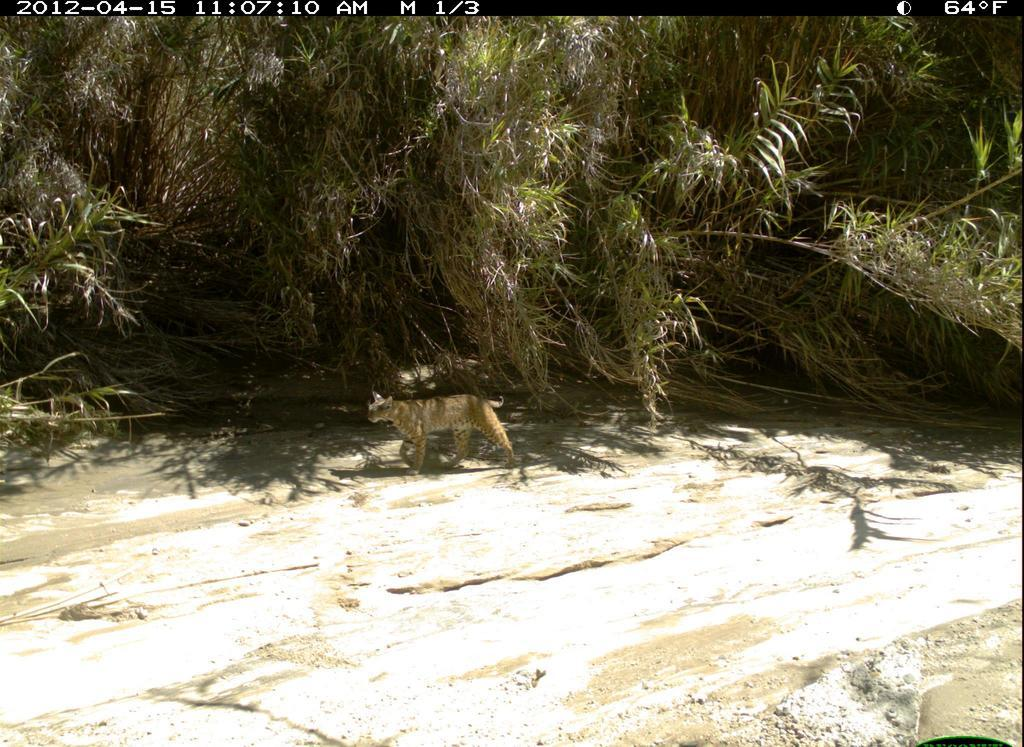bobcat: (349, 379, 579, 474)
